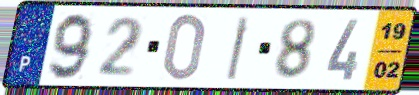0: (160, 12, 208, 83)
2: (95, 15, 146, 79)
4: (324, 18, 360, 82)
8: (273, 17, 319, 81)
9: (48, 11, 95, 81)
I: (224, 14, 253, 82)
